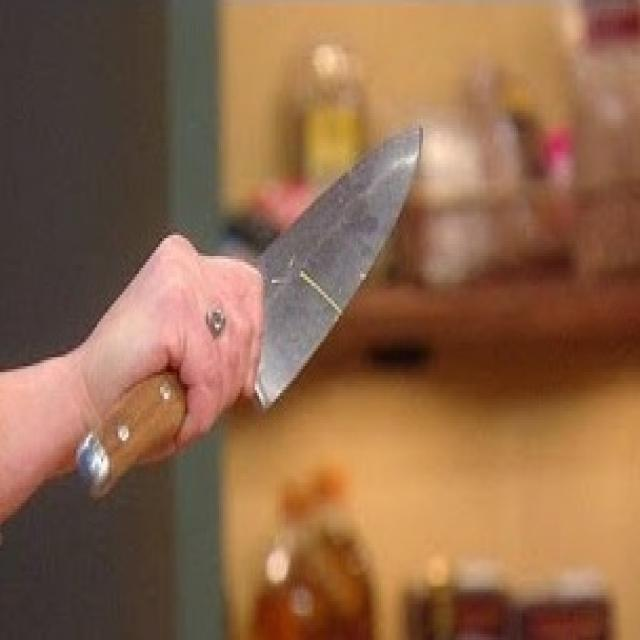knife: (74, 117, 435, 512)
